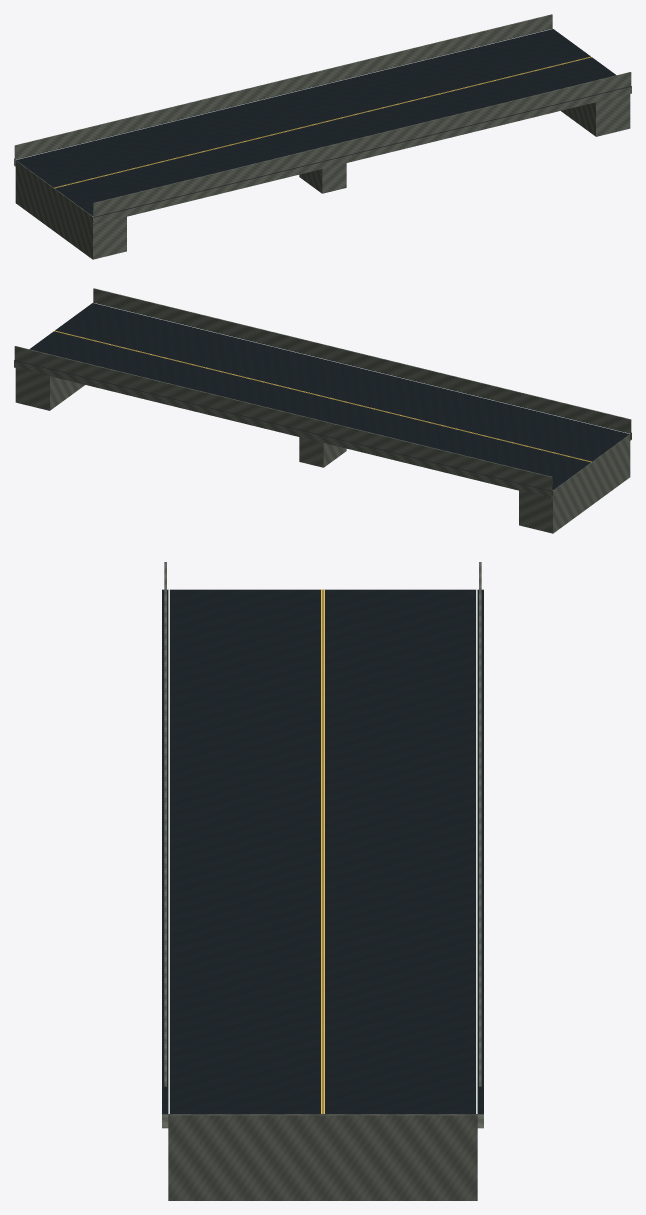
File: bridge_2lane_32m_LOD2.glb
3 views of the same model, one above another, from view 1: azimuth 30°, elevation 25°; view 2: azimuth 150°, elevation 25°; view 3: azimuth 270°, elevation 25° (orthographic). The views are drawn at different scales.
Parts seen in each view (by area): view 1: bridge_2lane_32m__deck.002, bridge_2lane_32m__pier.002; view 2: bridge_2lane_32m__deck.002, bridge_2lane_32m__pier.002; view 3: bridge_2lane_32m__deck.002, bridge_2lane_32m__pier.002.
Boxes of the visible parts, left/top/right/bottom form: bridge_2lane_32m__deck.002: left=14, top=14, right=631, bottom=224; bridge_2lane_32m__pier.002: left=15, top=94, right=630, bottom=259; bridge_2lane_32m__deck.002: left=14, top=288, right=631, bottom=498; bridge_2lane_32m__pier.002: left=15, top=368, right=630, bottom=533; bridge_2lane_32m__deck.002: left=162, top=562, right=483, bottom=1128; bridge_2lane_32m__pier.002: left=168, top=1114, right=477, bottom=1200.
Size of the model in its own units: 32 by 4.19 by 8.3.
4 materials, 2 textured.
